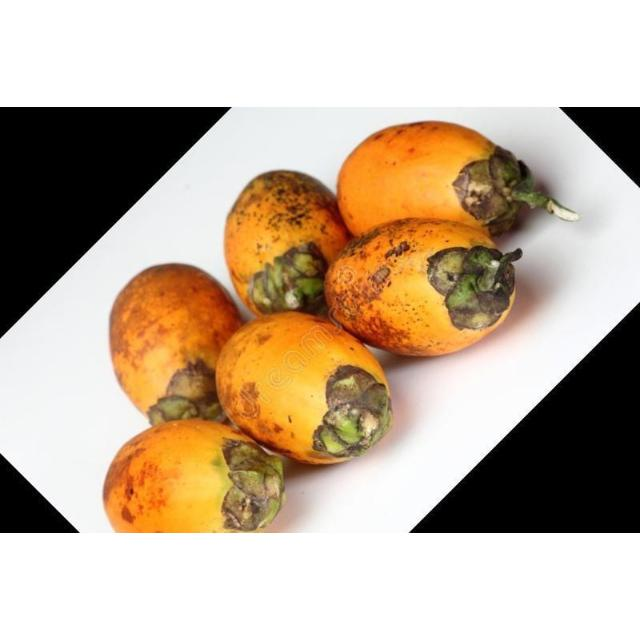good: (216, 312, 390, 466), (338, 122, 558, 242), (110, 260, 254, 432), (326, 218, 508, 354), (105, 421, 278, 532), (224, 172, 350, 321), (234, 276, 260, 318)
